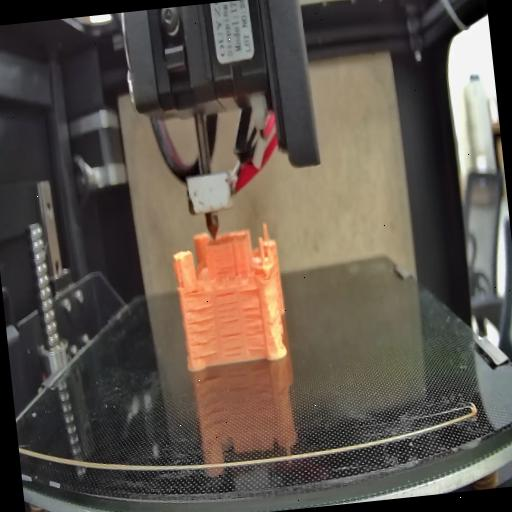cracks: (210, 290, 246, 358), (184, 302, 218, 361), (242, 304, 266, 350), (184, 284, 206, 296), (218, 264, 234, 280), (240, 286, 258, 296)
